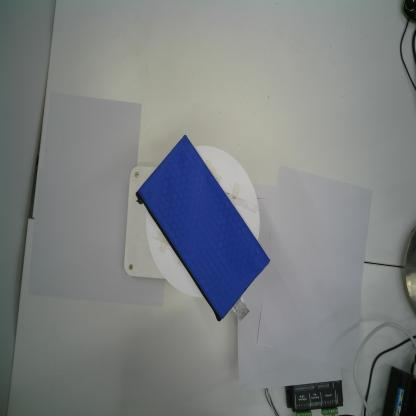Stationery: (134, 131, 272, 325)
